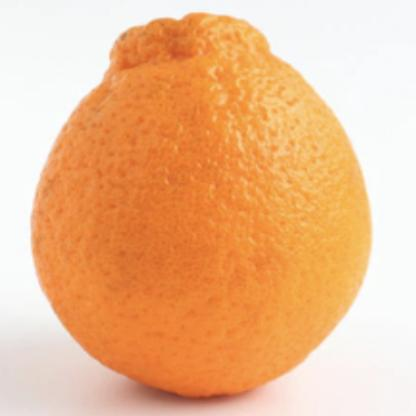fresh: (34, 12, 374, 395)
